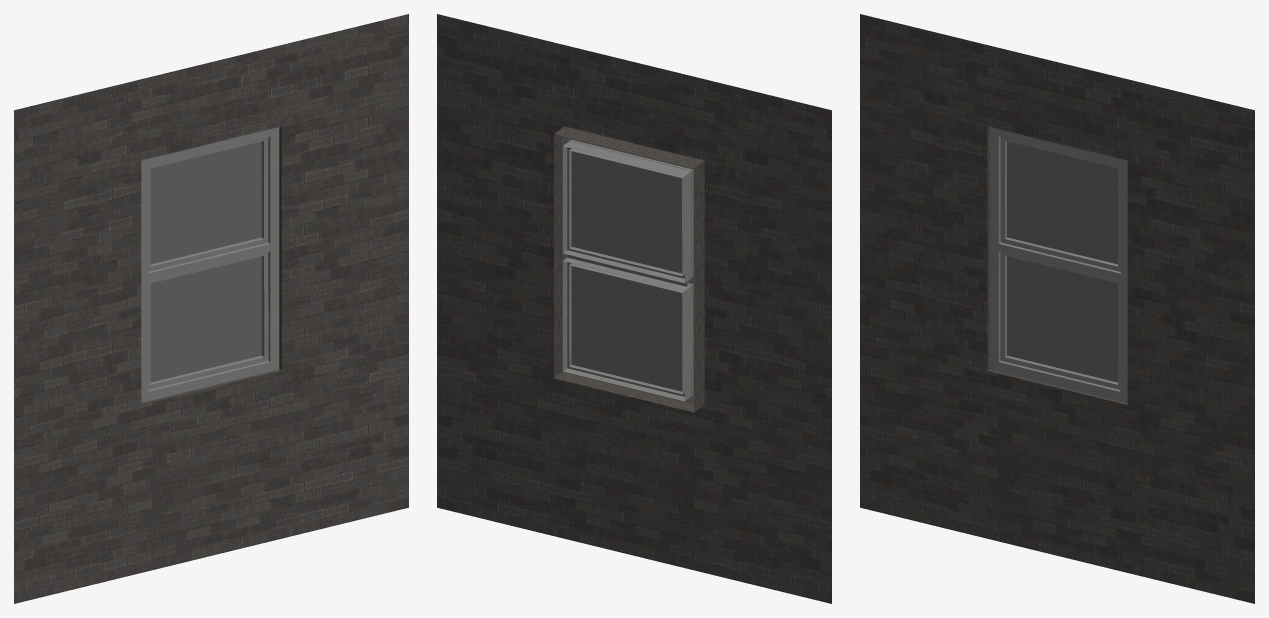
Rendered from Sm_Window04.fbx.
The picture shows the model from 3 angles, left to right: view 1: azimuth 30°, elevation 25°; view 2: azimuth 150°, elevation 25°; view 3: azimuth 330°, elevation 25°; orthographic projection.
Visible parts, largest first — view 1: Sm_Window04; view 2: Sm_Window04; view 3: Sm_Window04.
Part boxes in pixels (x1=…): Sm_Window04: x1=14, y1=14, x2=408, y2=603; Sm_Window04: x1=437, y1=14, x2=831, y2=603; Sm_Window04: x1=860, y1=14, x2=1254, y2=603.
Size of the model in its own units: 251 by 12.1 by 300.
3 materials, 3 textured.
